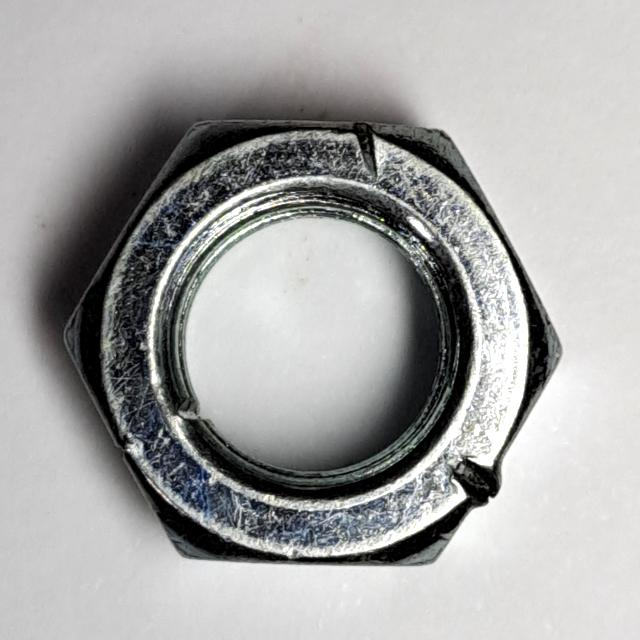Scratches: (49, 104, 573, 586)
